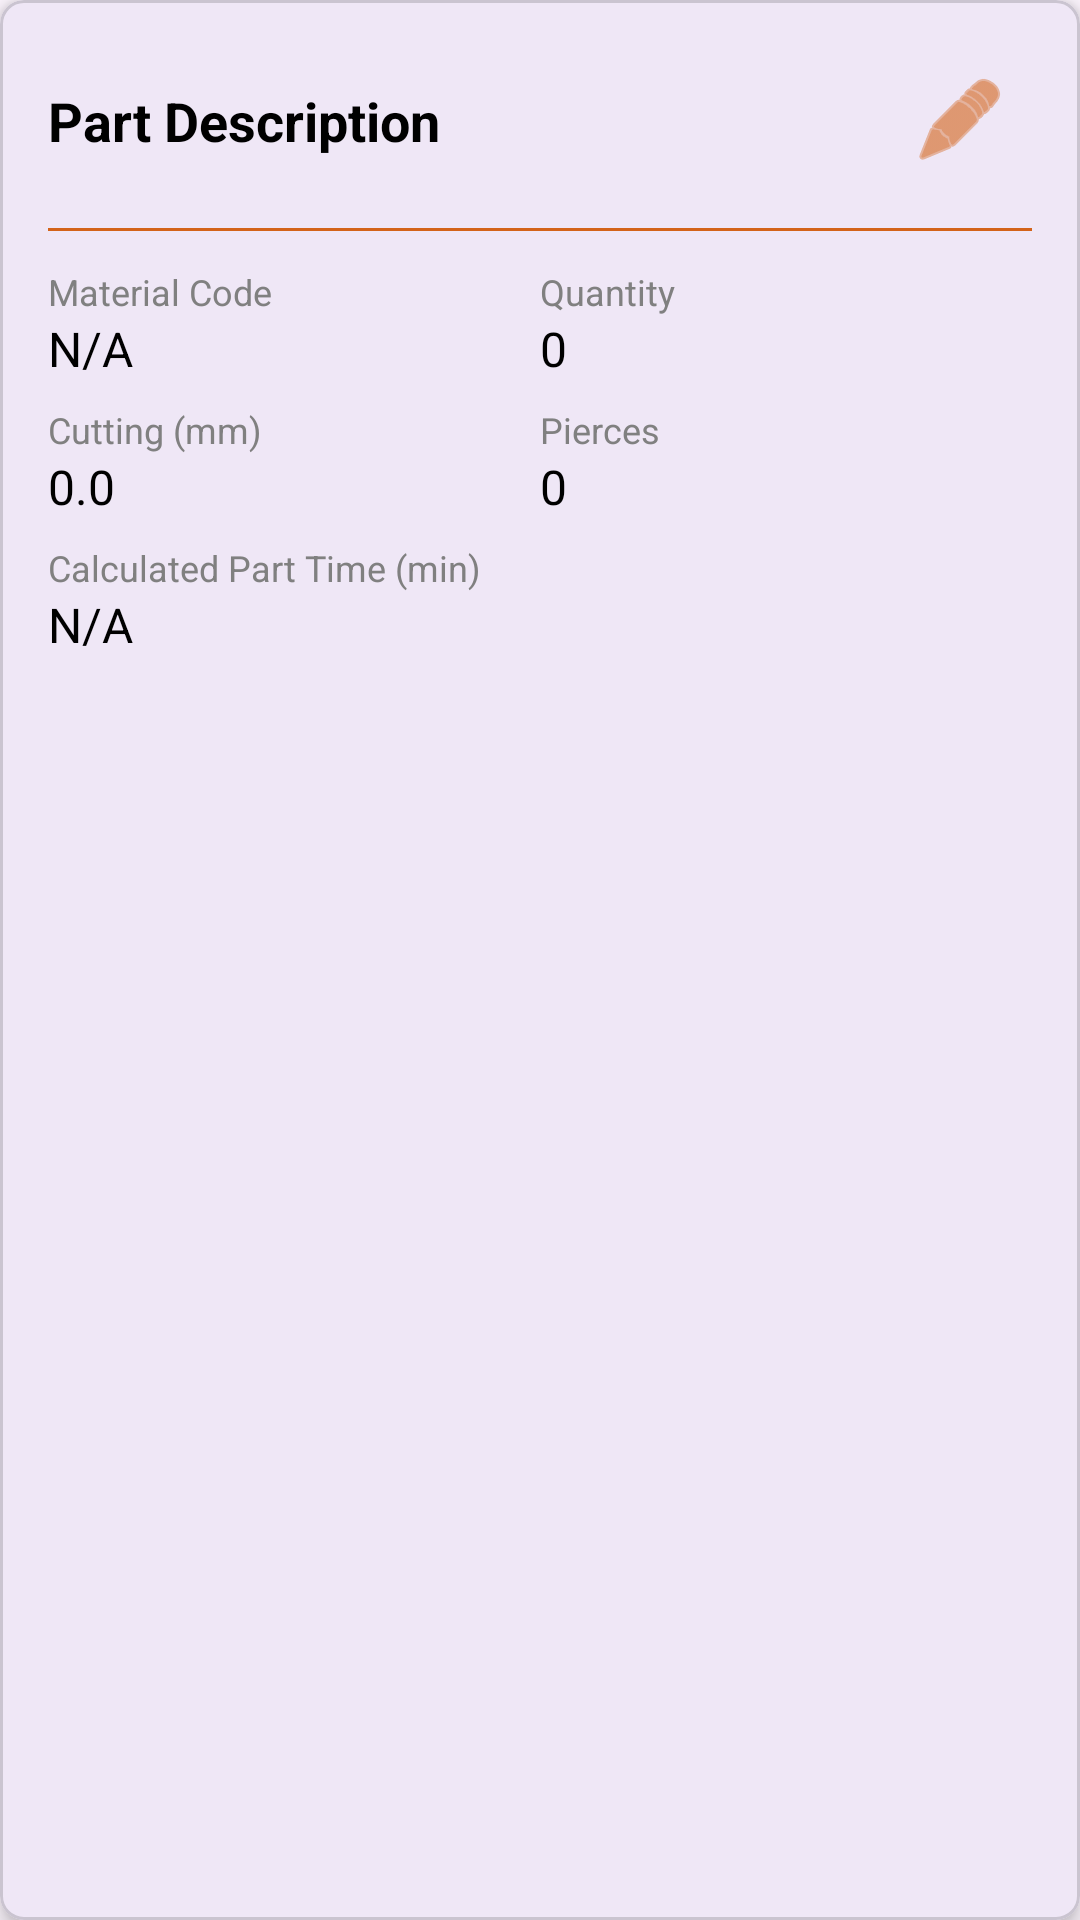

Point at icon controls on the screen. Image size 1080px×1920px, points as point (x, y).
Edit Part: point (959, 119)
